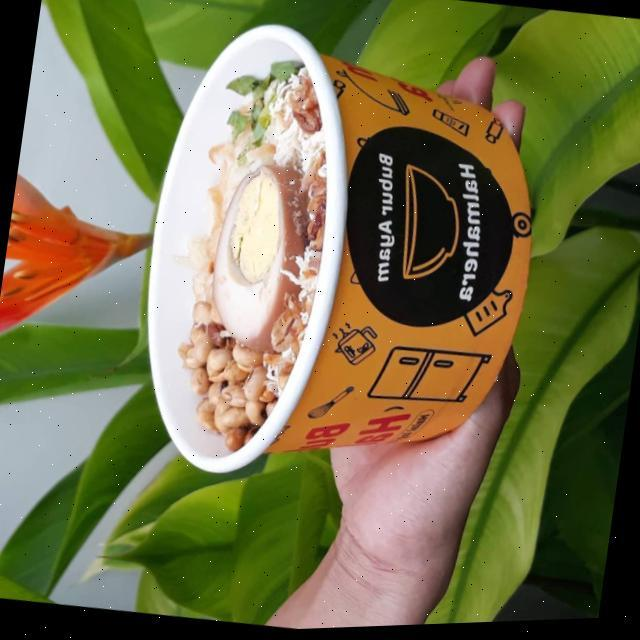bubur ayam: (162, 56, 348, 453)
telur rebus: (204, 160, 309, 354)
